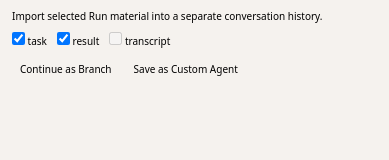
Test: AgentRunActions › offers the explicit new-thread fallback after a missing Parent response
Click the button "Continue as Branch" at (66, 70), box [12,57,120,82]
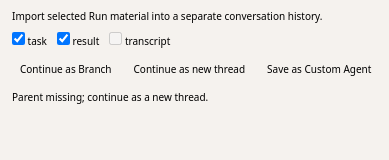
Click the button "Continue as new thread" at (189, 70), box [126,57,253,82]
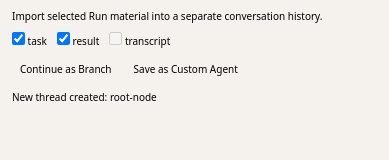
Expected: the text "New thread created: root-node" is shown, [12,90,157,104]
